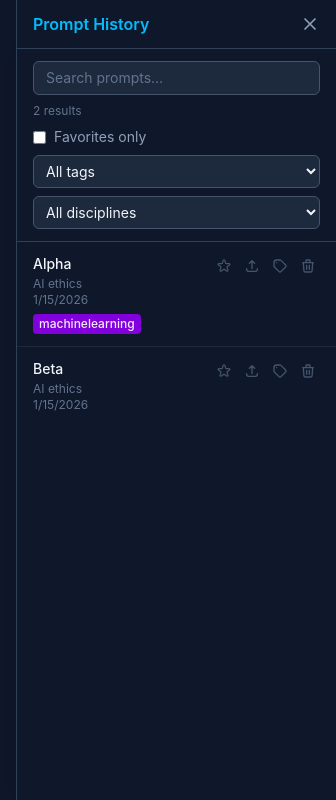
Test: PromptHistory — enhanced search › searches within tags
Expected: the text "Alpha" is shown, [33,255,72,272]
Type "machinelearning" into the field labelled "Search prompts…".
click(176, 78); type("machinelearning")  # box [33,61,320,95]
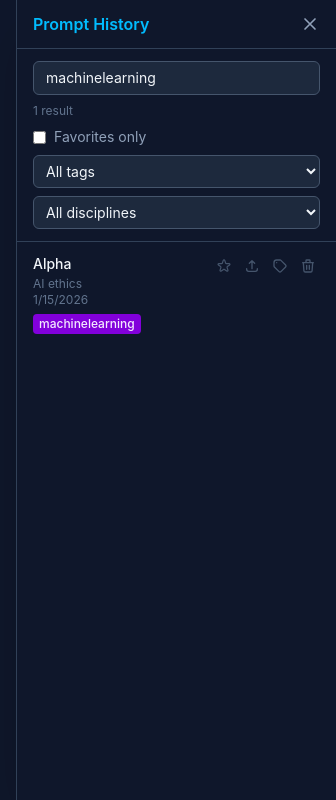
Expected: the text "Alpha" is shown, [33,255,72,272]
Expected: the text "Beta" is gone
